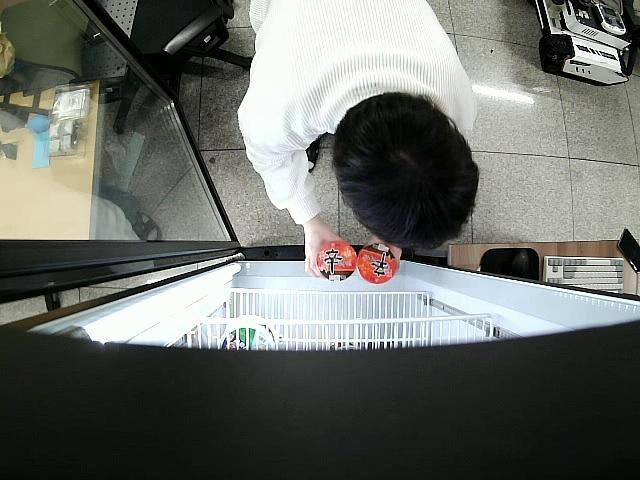02_shinRamen_S: (318, 238, 357, 282), (358, 243, 398, 284)
